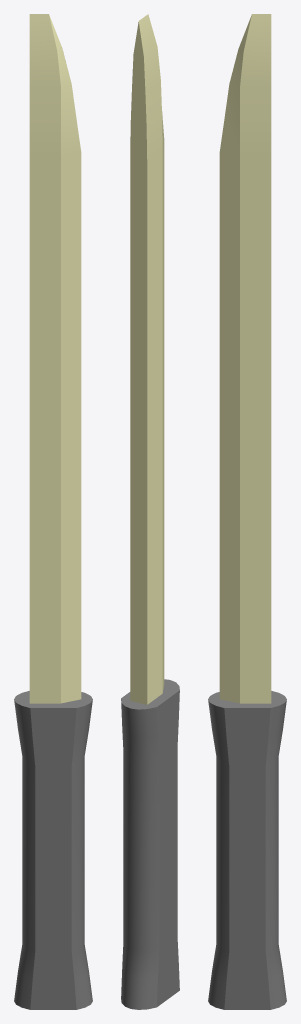
The model's file is blade.fbx.
3 renders of one model, left to right at view 1: azimuth 90°, elevation 25°; view 2: azimuth 150°, elevation 25°; view 3: azimuth 270°, elevation 25°, orthographic.
Visible parts, largest first — view 1: polySurface1; view 2: polySurface1; view 3: polySurface1.
Part boxes in pixels (x1,y1,x2,y2): polySurface1: (14, 14, 92, 1009); polySurface1: (121, 14, 179, 1009); polySurface1: (208, 14, 286, 1009).
Size of the model in its own units: 0.0578 by 1.52 by 0.1097.
